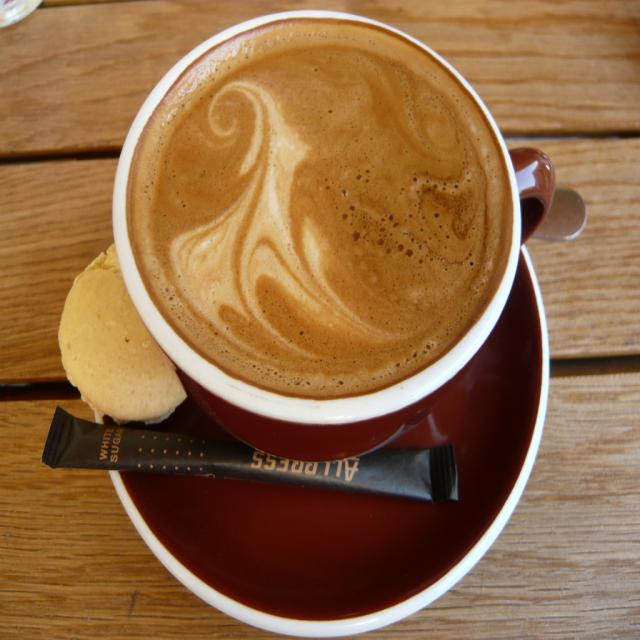Coffee: (125, 17, 515, 400)
